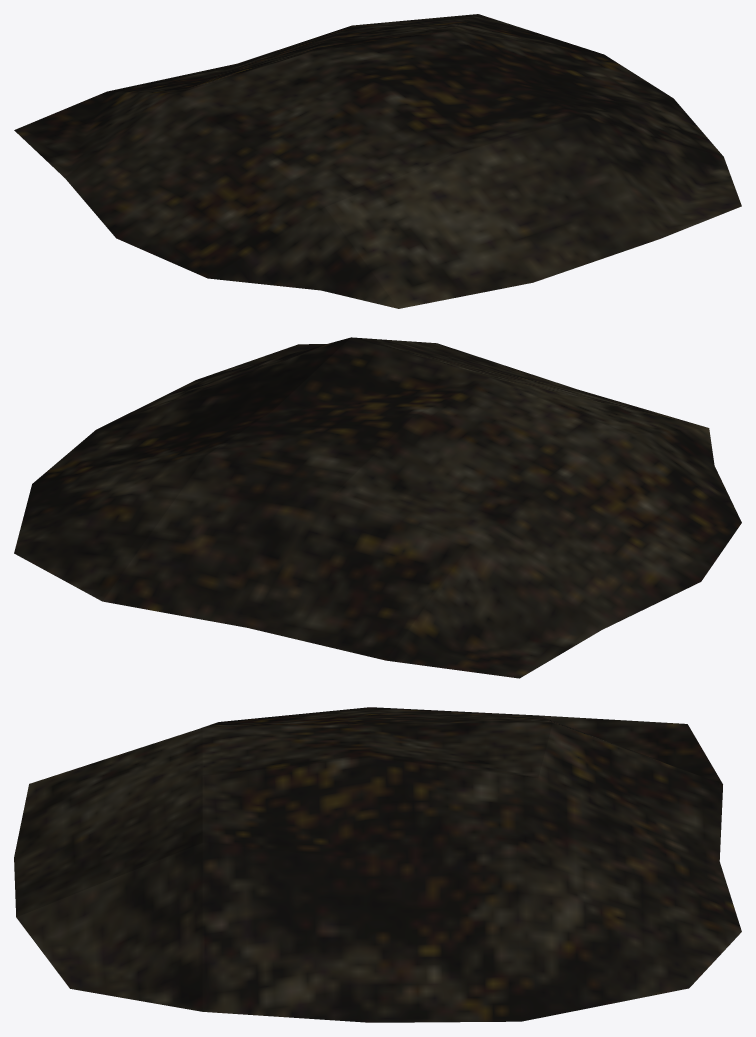
Rendered from SM_EC_Horror_Hay_Patch_5.fbx.
3 renders of one model, top to bottom at view 1: azimuth 30°, elevation 25°; view 2: azimuth 150°, elevation 25°; view 3: azimuth 270°, elevation 25°, orthographic. The views are drawn at different scales.
Parts seen in each view (by area): view 1: SM_EC_Horror_Hay_Patch_5; view 2: SM_EC_Horror_Hay_Patch_5; view 3: SM_EC_Horror_Hay_Patch_5.
Boxes of the visible parts, left/top/right/bottom form: SM_EC_Horror_Hay_Patch_5: left=14, top=14, right=741, bottom=308; SM_EC_Horror_Hay_Patch_5: left=14, top=337, right=741, bottom=678; SM_EC_Horror_Hay_Patch_5: left=14, top=707, right=741, bottom=1022.
Bounding box in the file's own units: 1.52 × 1.46 × 0.2259.
